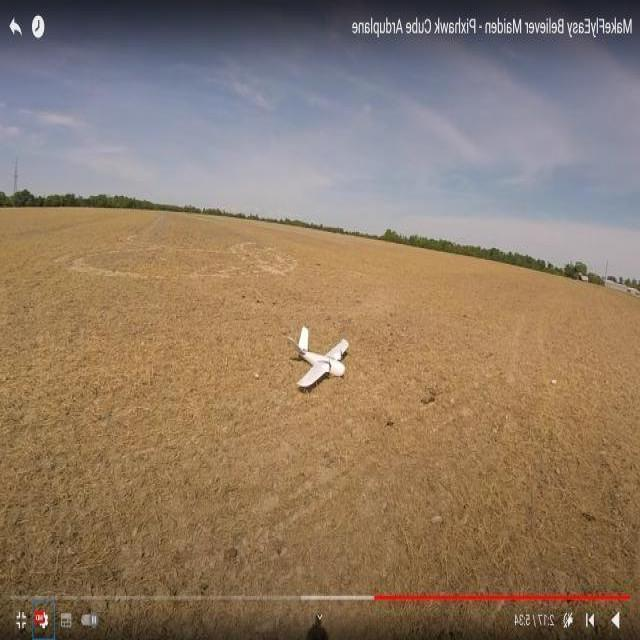iha: (312, 340, 332, 369)
